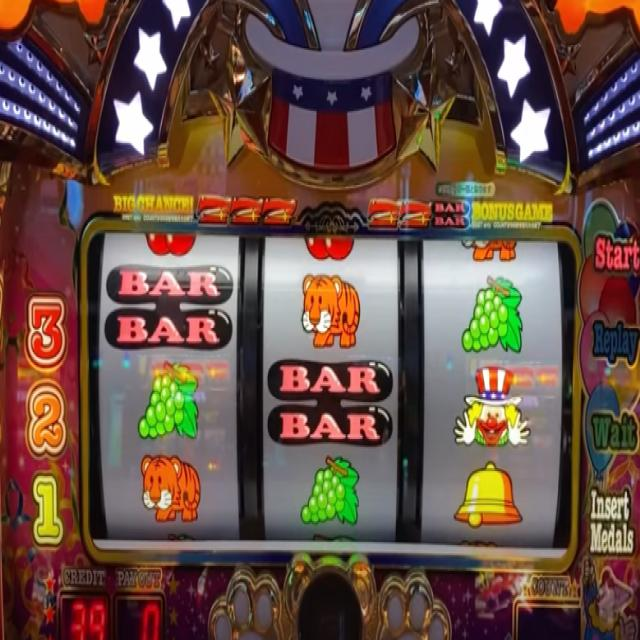bar: (104, 263, 233, 353), (268, 358, 394, 448), (431, 200, 470, 231)
bell: (455, 460, 524, 532)
cherry: (305, 236, 355, 263), (145, 233, 197, 256)
clown: (453, 366, 530, 447)
display: (88, 225, 576, 562)
grape: (136, 360, 200, 448), (461, 272, 524, 358), (300, 455, 363, 528)
tiger: (301, 274, 361, 348), (139, 455, 201, 522), (460, 235, 519, 262)
z: (197, 191, 230, 224), (230, 192, 262, 224), (398, 196, 431, 227), (368, 197, 399, 229), (262, 196, 296, 225)
